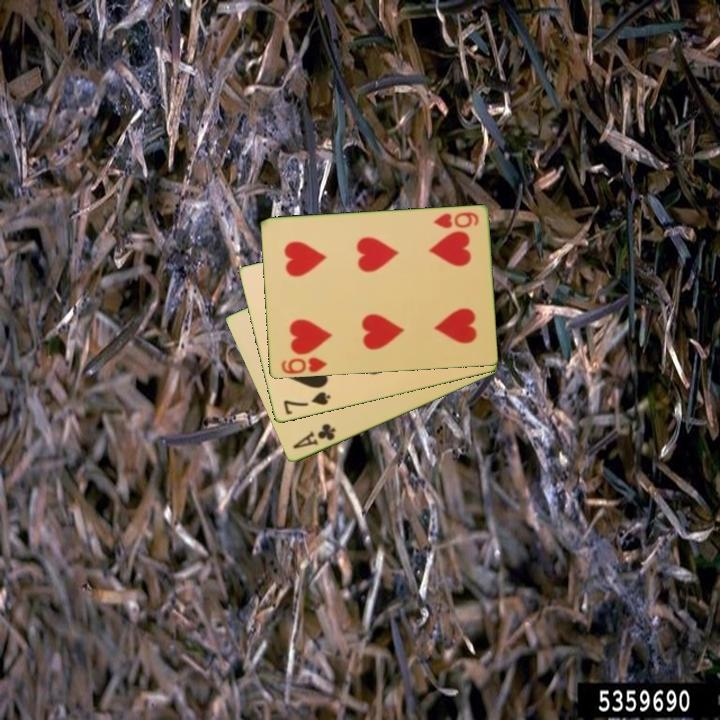6h: (277, 354, 330, 377), (430, 209, 481, 232)
7s: (280, 388, 333, 418)
Ac: (289, 420, 339, 452)
